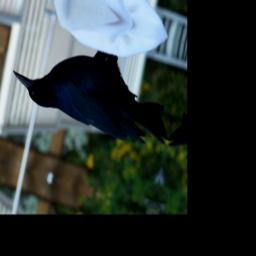Crow: (6, 24, 179, 156)
